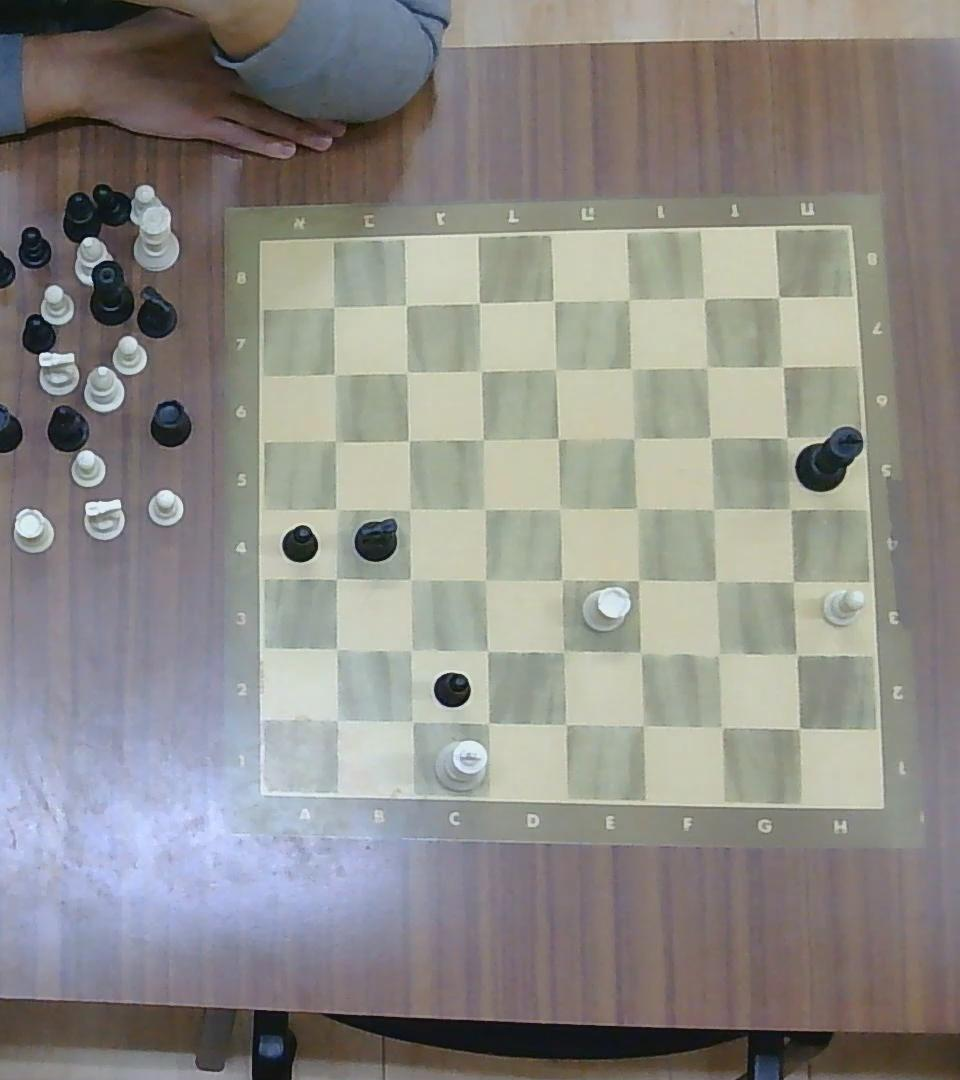xcorner: (781, 710, 815, 744), (701, 638, 735, 670), (548, 706, 580, 738), (471, 706, 503, 738), (626, 709, 658, 741), (705, 710, 736, 743), (625, 635, 656, 667), (622, 563, 653, 594), (396, 705, 427, 735), (321, 703, 351, 734), (465, 286, 495, 317), (781, 639, 812, 669), (548, 636, 578, 666), (615, 283, 645, 313), (547, 565, 577, 595), (471, 635, 502, 664), (545, 494, 574, 524), (698, 493, 728, 522), (470, 493, 499, 522), (622, 493, 651, 522), (397, 635, 426, 664), (617, 353, 646, 382), (700, 566, 730, 594), (470, 566, 500, 594), (540, 285, 568, 315), (545, 422, 573, 451), (543, 353, 571, 382), (469, 424, 497, 453), (621, 422, 649, 451), (776, 495, 805, 523), (693, 352, 722, 380), (320, 291, 349, 319), (467, 355, 495, 383), (322, 635, 350, 663), (691, 284, 719, 312), (393, 291, 421, 319), (777, 568, 806, 595), (772, 423, 801, 450), (769, 352, 798, 379), (393, 357, 422, 384), (396, 494, 423, 521), (396, 565, 423, 592), (698, 423, 725, 450), (324, 496, 351, 522), (766, 283, 792, 310), (396, 427, 422, 453), (323, 427, 349, 453), (323, 565, 349, 591), (323, 361, 348, 387)
